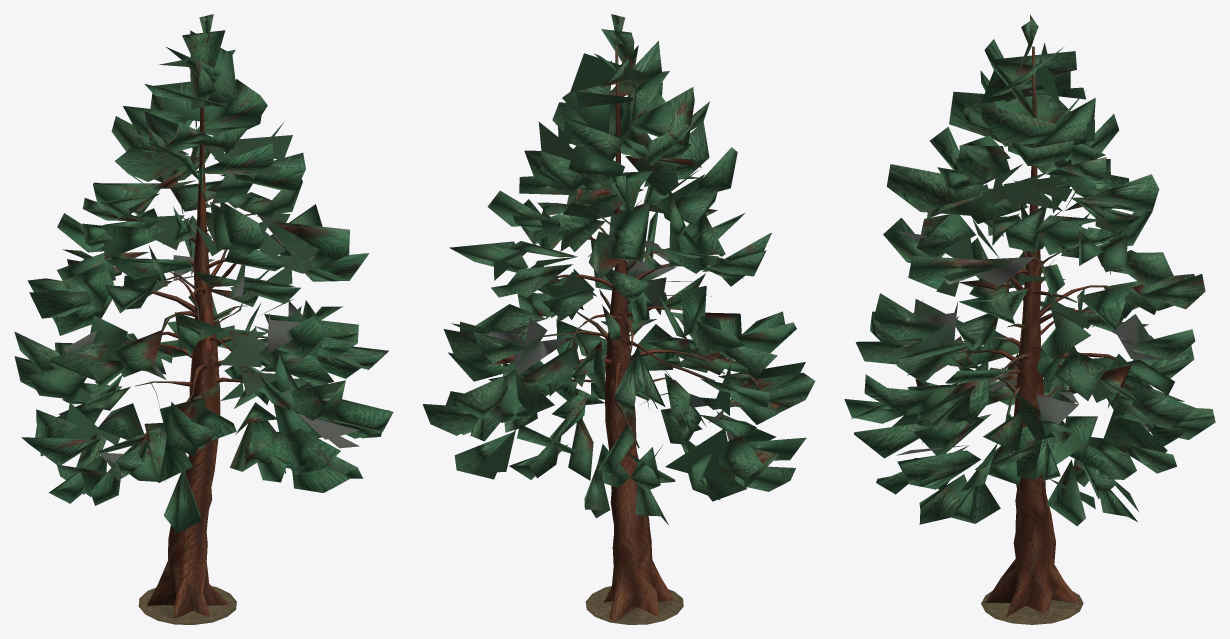
File: pineTree.glb
The picture shows the model from 3 angles, left to right: view 1: azimuth 30°, elevation 25°; view 2: azimuth 150°, elevation 25°; view 3: azimuth 270°, elevation 25°; orthographic projection. The views are drawn at different scales.
Size of the model in its own units: 0.5523 by 0.9521 by 0.5386.
1 material, 1 textured.
